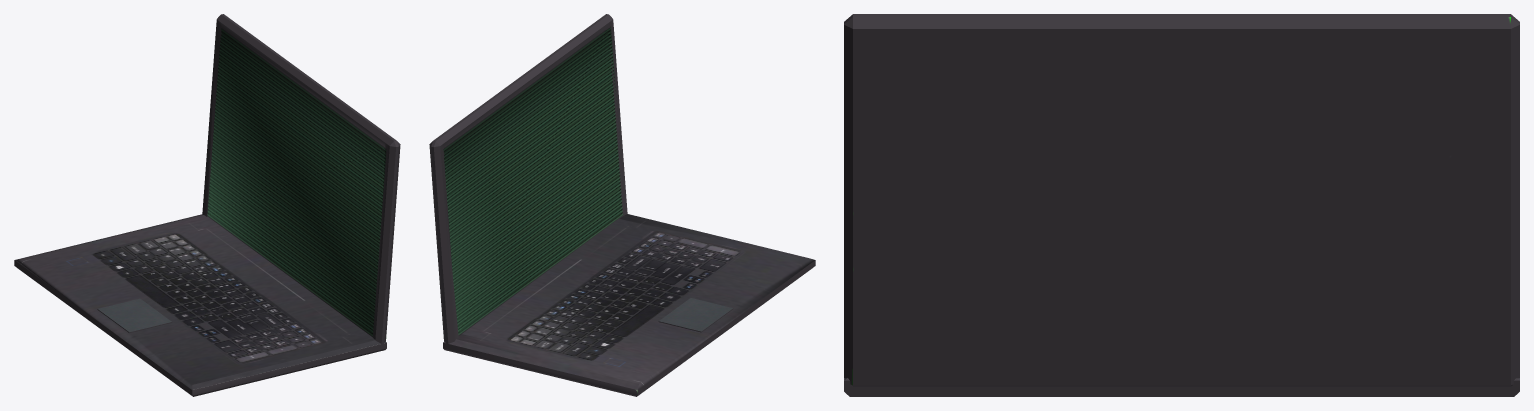
File: Laptop.FBX
3 views of the same model, side by side, from view 1: azimuth 30°, elevation 25°; view 2: azimuth 150°, elevation 25°; view 3: azimuth 270°, elevation 25° (orthographic). The views are drawn at different scales.
Parts seen in each view (by area): view 1: Laptop; view 2: Laptop; view 3: Laptop.
Boxes of the visible parts, box(x1,y1,x2,y2) form: Laptop: box(14, 14, 400, 396); Laptop: box(429, 14, 815, 396); Laptop: box(844, 14, 1519, 396).
Bounding box in the file's own units: 7.66 × 7.16 × 11.2.
1 material, 1 textured.
